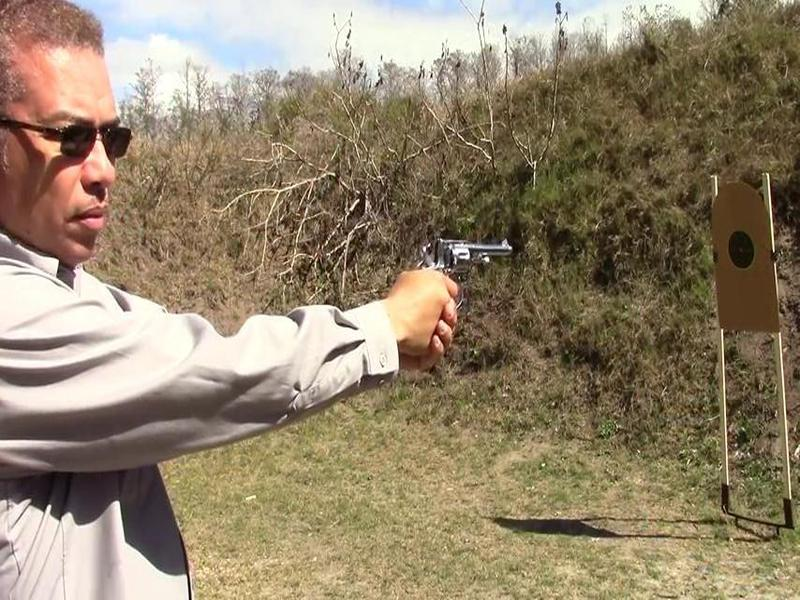Revolver: (411, 218, 527, 324)
